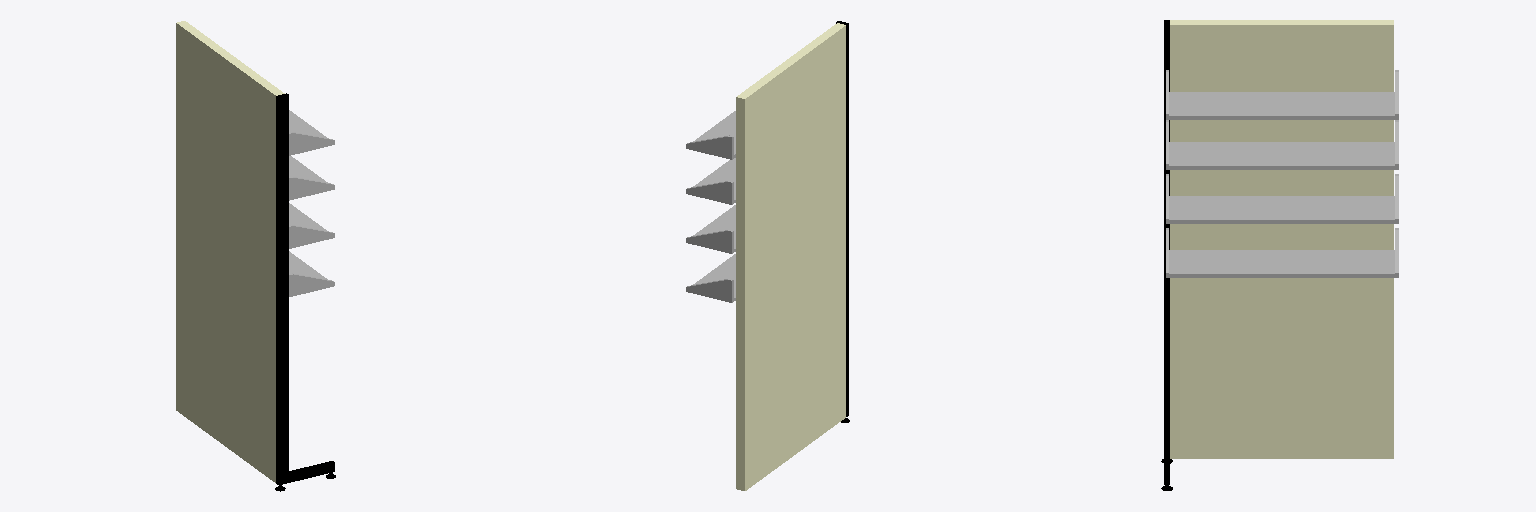
URDF robot description (room73b2-bariera-1200-middle-1):
<?xml version="1.0"?>
<robot name="room73b2-bariera-1200-middle-1"
       xmlns:xi="http://www.w3.org/2001/XInclude"
       xmlns:gazebo="http://playerstage.sourceforge.net/gazebo/xmlschema/#gz"
       xmlns:model="http://playerstage.sourceforge.net/gazebo/xmlschema/#model"
       xmlns:sensor="http://playerstage.sourceforge.net/gazebo/xmlschema/#sensor"
       xmlns:body="http://playerstage.sourceforge.net/gazebo/xmlschema/#body"
       xmlns:geom="http://playerstage.sourceforge.net/gazebo/xmlschema/#geom"
       xmlns:joint="http://playerstage.sourceforge.net/gazebo/xmlschema/#joint"
       xmlns:interface="http://playerstage.sourceforge.net/gazebo/xmlschema/#interface"
       xmlns:rendering="http://playerstage.sourceforge.net/gazebo/xmlschema/#rendering"
       xmlns:renderable="http://playerstage.sourceforge.net/gazebo/xmlschema/#renderable"
       xmlns:controller="http://playerstage.sourceforge.net/gazebo/xmlschema/#controller"
       xmlns:physics="http://playerstage.sourceforge.net/gazebo/xmlschema/#physics">
  <gazebo>
    <static>false</static>
  </gazebo>
  <link name="nil_link">
    <visual>
      <origin xyz="0 0 0" rpy="0 -0 0"/>
      <geometry>
        <mesh filename="model://room73b2-bariera-1200-middle-1/meshes/nil_link_mesh.dae" scale="1 1 1" />
      </geometry>
    </visual>
    <collision>
      <origin xyz="0 0 0" rpy="0 -0 0"/>
      <geometry>
        <mesh filename="model://room73b2-bariera-1200-middle-1/meshes/nil_link_mesh.dae" scale="1 1 1" />
      </geometry>
    </collision>
    <inertial>
      <mass value="0.001" />
      <origin xyz="0 0 0" rpy="0 -0 0"/>
      <inertia ixx="1e-09" ixy="0" ixz="0" iyy="1e-09" iyz="0" izz="1e-09"/>
    </inertial>
  </link>
  <gazebo reference="nil_link">
    <mu1>0.9</mu1>
    <mu2>0.9</mu2>
  </gazebo>
</robot>

--- Render facts (derived) ---
Views: 3 orthographic renders of the robot side by side, from view 1: azimuth 30°, elevation 25°; view 2: azimuth 150°, elevation 25°; view 3: azimuth 270°, elevation 25°.
Robot: room73b2-bariera-1200-middle-1 — 1 links, 0 joints (none); root link nil_link; default pose: every joint at zero.
Links seen in each view (by area): view 1: nil_link; view 2: nil_link; view 3: nil_link.
Link boxes in pixels (<box>): nil_link: <box>176,21,335,491</box>; nil_link: <box>686,21,849,490</box>; nil_link: <box>1161,20,1398,490</box>.
Bounding box of the posed robot: 0.4 × 1.24 × 2.54 m (x, y, z).
1 mesh visuals loaded from 1 distinct referenced files (1 Collada DAE).
